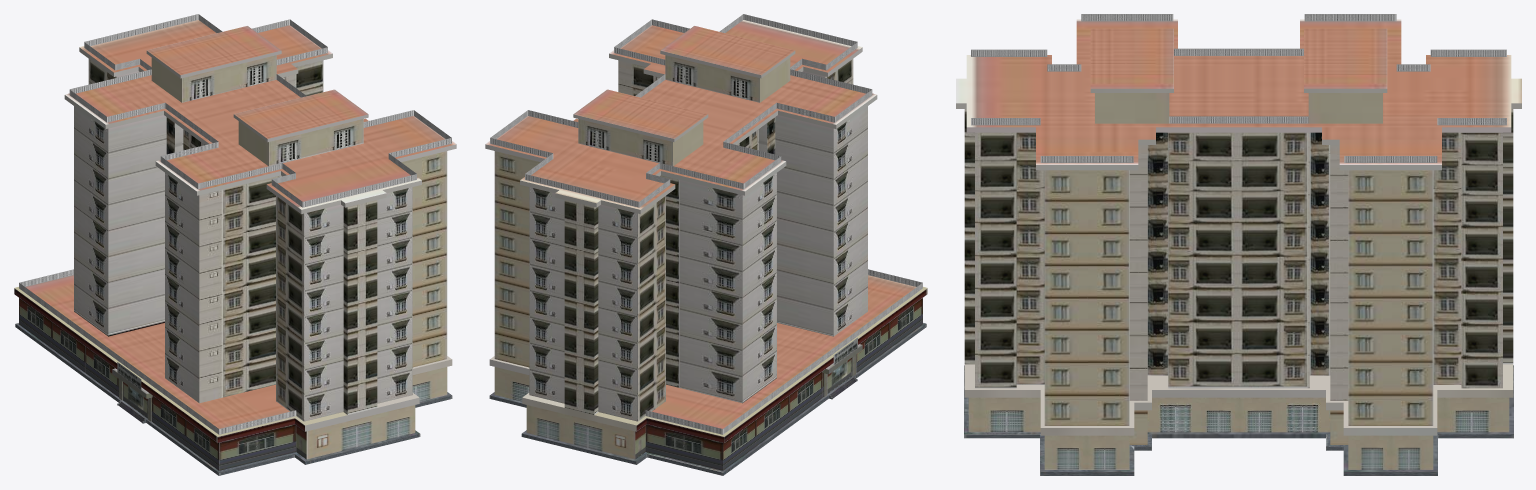
3 views of the same model, side by side, from view 1: azimuth 30°, elevation 25°; view 2: azimuth 150°, elevation 25°; view 3: azimuth 270°, elevation 25° (orthographic). The views are drawn at different scales.
Parts seen in each view (by area): view 1: HN470___N5B; view 2: HN470___N5B; view 3: HN470___N5B.
Boxes of the visible parts, box(x1,y1,x2,y2) form: HN470___N5B: box(14, 14, 456, 475); HN470___N5B: box(485, 14, 927, 475); HN470___N5B: box(956, 14, 1521, 475).
Size of the model in its own units: 37.25 by 38.8 by 56.97.
Materials: 1 (1 with a texture image).
